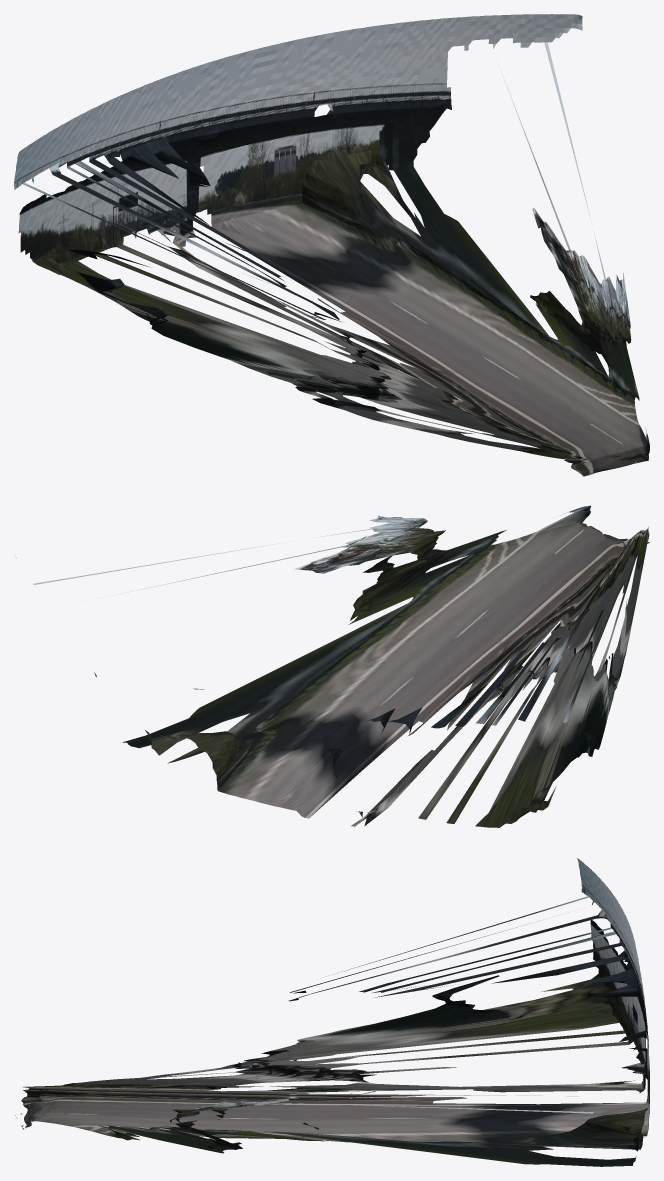
The picture shows the model from 3 angles, top to bottom: view 1: azimuth 30°, elevation 25°; view 2: azimuth 150°, elevation 25°; view 3: azimuth 270°, elevation 25°; orthographic projection. The views are drawn at different scales.
Visible parts, largest first — view 1: defaultobject; view 2: defaultobject; view 3: defaultobject.
Boxes of the visible parts, x1,y1,x2,y2 form: defaultobject: (14,14,649,476); defaultobject: (15,505,649,827); defaultobject: (15,858,649,1166).
Bounding box in the file's own units: 40.73 × 12.44 × 45.
1 material, 1 textured.
